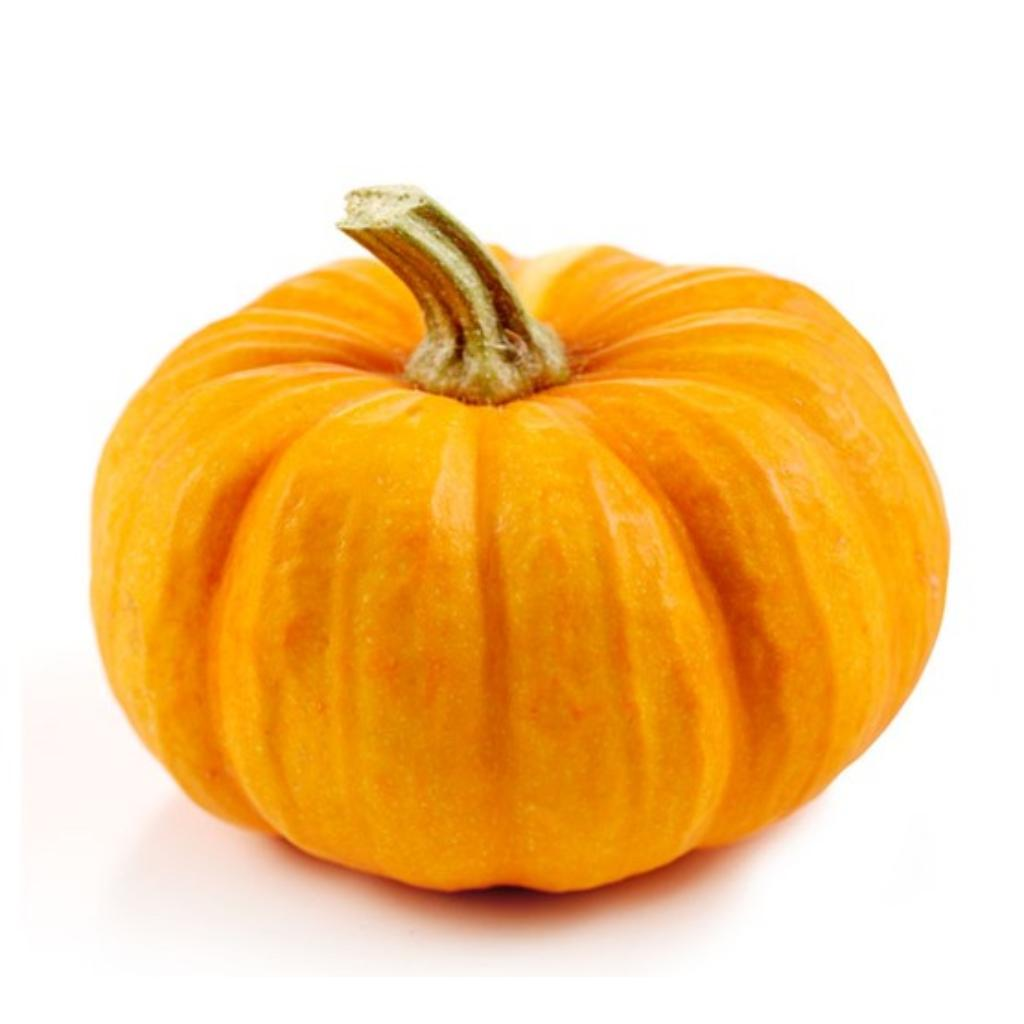pumpkin: (92, 193, 948, 890)
